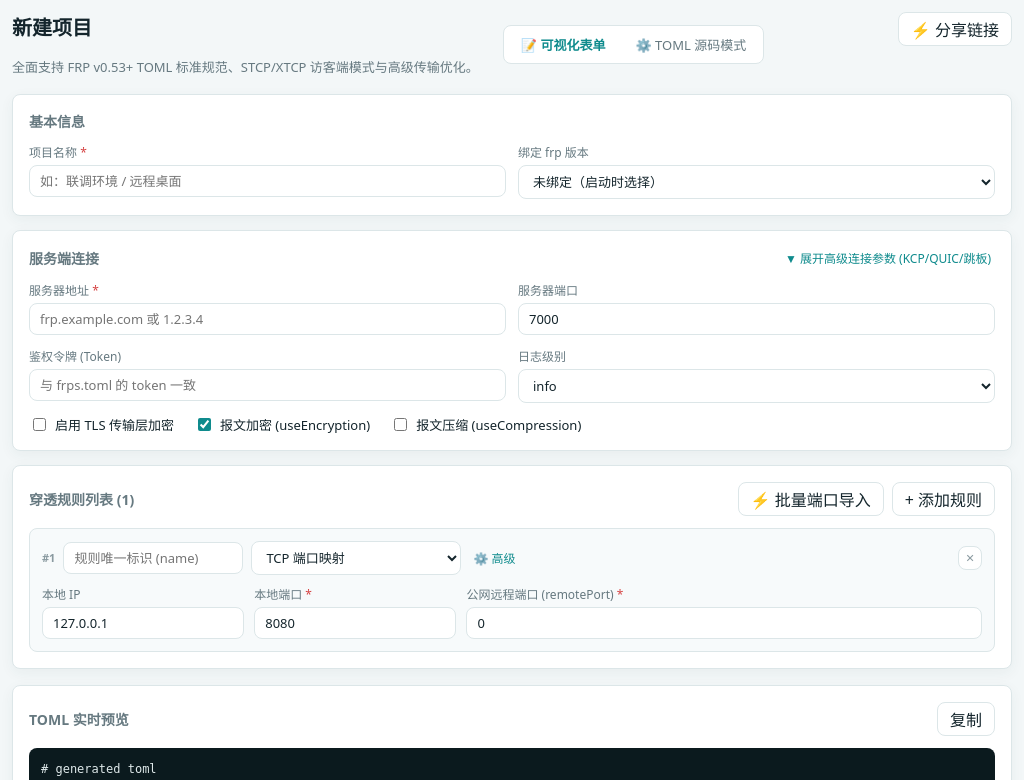
Scenario: FrpcProjectEditor 表单⇄TOML 同步 › 源码→表单：ParseToml 成功回写 draft；失败保留源码态并提示无法切回
Step 1. Click the button "⚙️ TOML 源码模式" → (691, 45), box [622, 29, 760, 60]
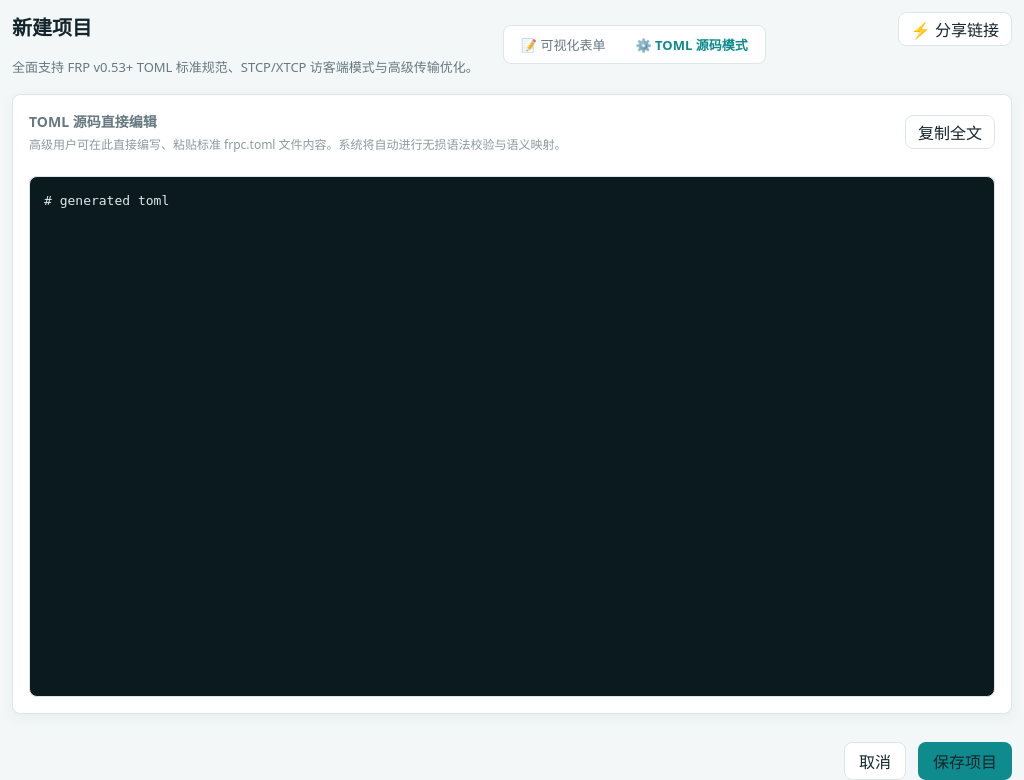
Step 2. Click the button "📝 可视化表单" → (563, 45), box [507, 29, 619, 60]
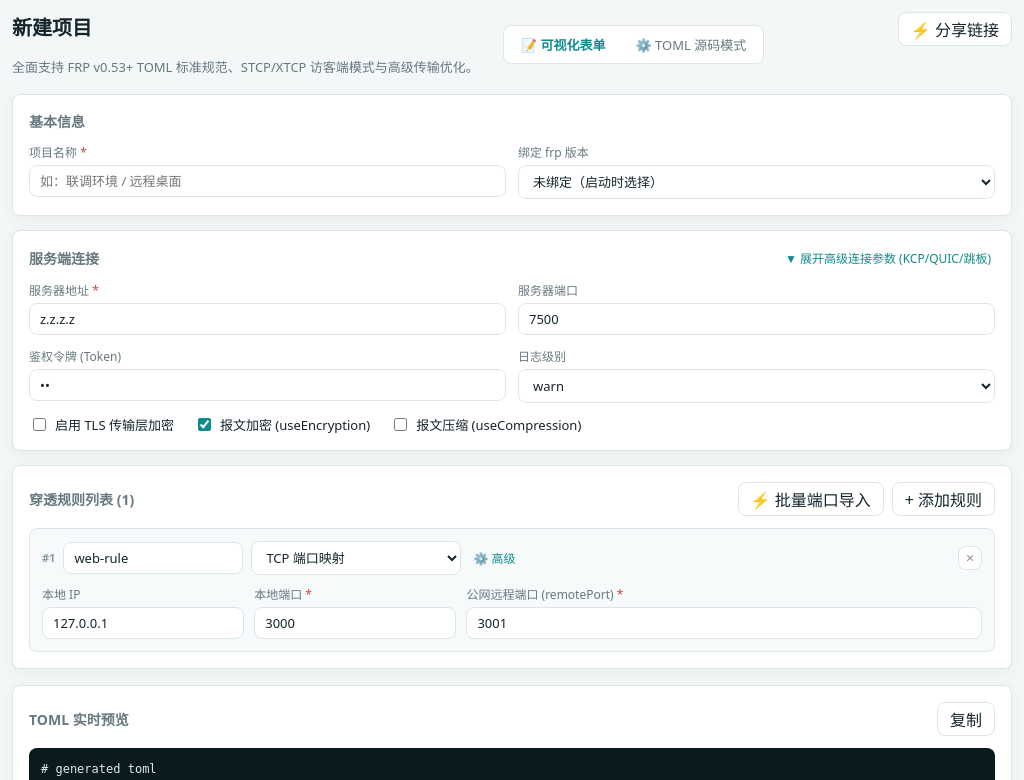
Expected: the field labelled "项目名称 *" is empty, [29, 165, 506, 197]
Expected: the field with class "input-name" is shown, [63, 542, 243, 574]
Expected: the field with placeholder "frp.example.com 或 1.2.3.4" holds "z.z.z.z", [29, 303, 506, 335]
Step 3. Click the button "⚙️ TOML 源码模式" → (691, 45), box [622, 29, 760, 60]
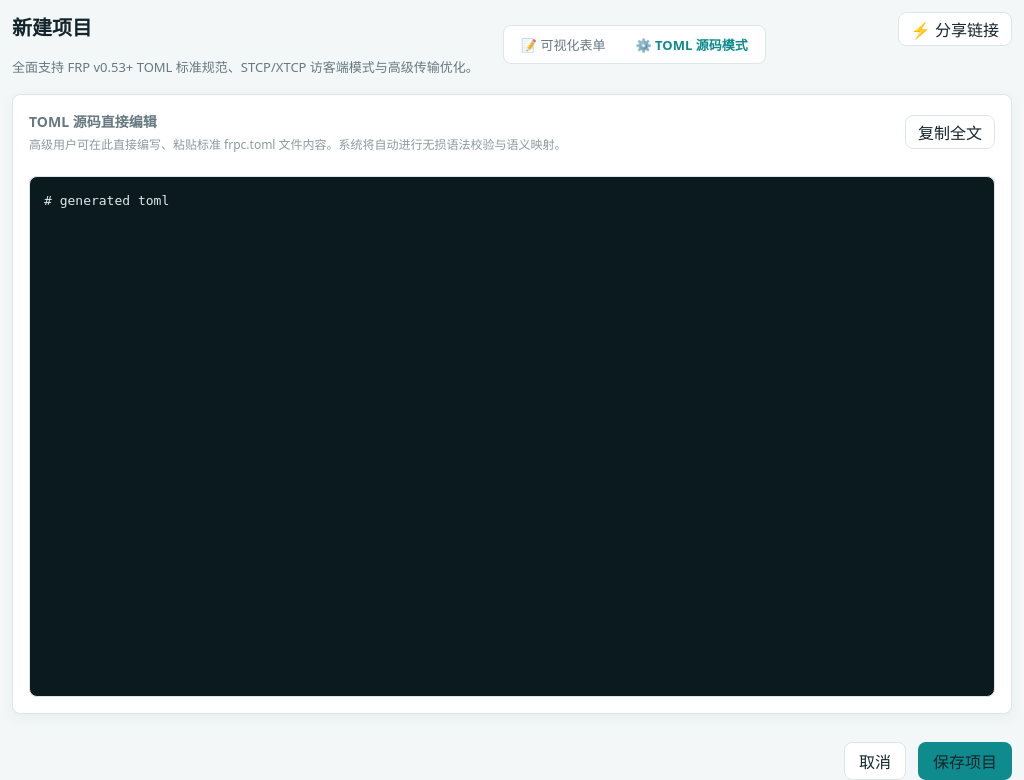
Step 4. Click the button "📝 可视化表单" → (563, 45), box [507, 29, 619, 60]
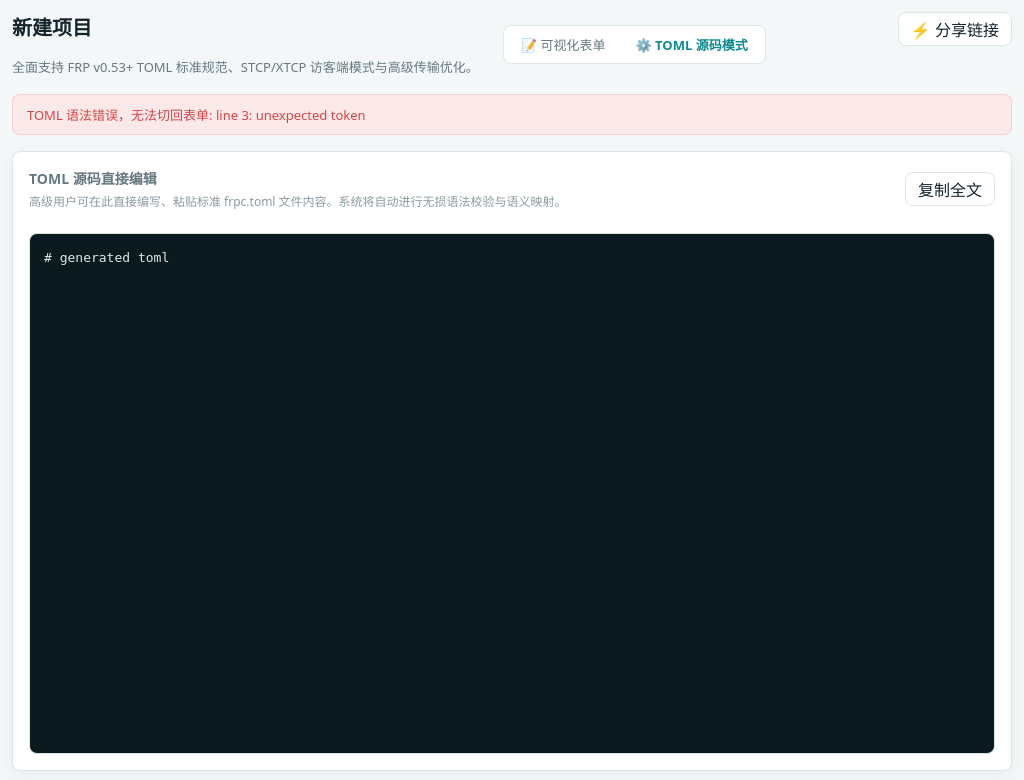
Expected: the text with class "error-box" shows "TOML 语法错误，无法切回表单", [27, 106, 366, 124]
Expected: the text with class "error-box" shows "line 3: unexpected token", [27, 106, 366, 124]
